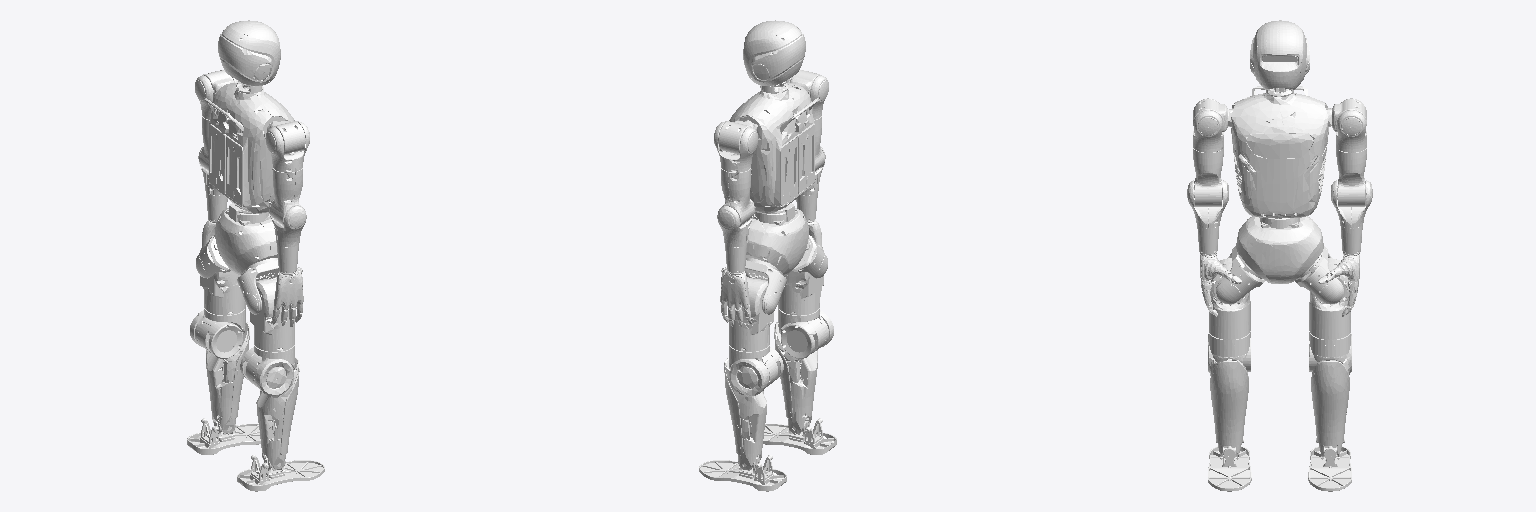
--- Render facts (derived) ---
Views: 3 orthographic renders of the robot side by side, from view 1: azimuth 30°, elevation 25°; view 2: azimuth 150°, elevation 25°; view 3: azimuth 270°, elevation 25°.
Model biped_s13 with 39 links and 38 joints (23 revolute, 14 fixed, 1 floating), rooted at base_link, posed all joints at 0.
Links seen in each view (by area): view 1: base_link, leg_r4_link, zhead_2_link, waist, zarm_r4_link, leg_l4_link, leg_r2_link, leg_l3_link, leg_r6_link, leg_l6_link, leg_l2_link, zarm_r3_link (+7 smaller); view 2: base_link, leg_l4_link, zhead_2_link, waist, zarm_l4_link, leg_r4_link, leg_l2_link, leg_r3_link, leg_l6_link, leg_r6_link, leg_r2_link, zarm_l3_link (+7 smaller); view 3: base_link, waist, zhead_2_link, leg_r4_link, leg_l4_link, zarm_l4_link, zarm_r4_link, leg_r2_link, leg_l2_link, leg_l6_link, leg_r6_link, zarm_l3_link (+7 smaller).
Boxes of the visible links, x1=… form: base_link: x1=204, y1=83, x2=294, y2=213; leg_r4_link: x1=256, y1=357, x2=299, y2=469; zhead_2_link: x1=218, y1=20, x2=280, y2=85; waist: x1=213, y1=203, x2=277, y2=275; zarm_r4_link: x1=269, y1=198, x2=306, y2=326; leg_l4_link: x1=190, y1=310, x2=249, y2=434; leg_r2_link: x1=250, y1=277, x2=294, y2=351; leg_l3_link: x1=195, y1=307, x2=245, y2=358; leg_r6_link: x1=237, y1=455, x2=324, y2=491; leg_l6_link: x1=187, y1=418, x2=260, y2=454; leg_l2_link: x1=200, y1=245, x2=245, y2=315; zarm_r3_link: x1=270, y1=168, x2=304, y2=225; base_link: x1=729, y1=82, x2=819, y2=213; leg_l4_link: x1=724, y1=358, x2=767, y2=469; zhead_2_link: x1=743, y1=20, x2=805, y2=85; waist: x1=746, y1=203, x2=808, y2=275; zarm_l4_link: x1=717, y1=199, x2=754, y2=326; leg_r4_link: x1=774, y1=310, x2=833, y2=434; leg_l2_link: x1=729, y1=277, x2=773, y2=351; leg_r3_link: x1=778, y1=307, x2=828, y2=358; leg_l6_link: x1=699, y1=455, x2=786, y2=491; leg_r6_link: x1=763, y1=418, x2=836, y2=454; leg_r2_link: x1=778, y1=245, x2=823, y2=315; zarm_l3_link: x1=719, y1=168, x2=753, y2=226; base_link: x1=1228, y1=86, x2=1331, y2=217; waist: x1=1236, y1=216, x2=1323, y2=283; zhead_2_link: x1=1250, y1=20, x2=1309, y2=89; leg_r4_link: x1=1208, y1=334, x2=1248, y2=457; leg_l4_link: x1=1311, y1=334, x2=1351, y2=457; zarm_l4_link: x1=1318, y1=180, x2=1372, y2=316; zarm_r4_link: x1=1187, y1=180, x2=1241, y2=316; leg_r2_link: x1=1209, y1=258, x2=1250, y2=339; leg_l2_link: x1=1309, y1=258, x2=1350, y2=339; leg_l6_link: x1=1308, y1=438, x2=1351, y2=491; leg_r6_link: x1=1208, y1=438, x2=1251, y2=491; zarm_l3_link: x1=1336, y1=148, x2=1366, y2=206.
Size in the robot's own frame: 0.215 by 0.4211 by 1.11 metres.
24 mesh visuals loaded from 24 distinct referenced files (24 binary STL).

URDF robot description (biped_s13):
<?xml version='1.0' encoding='utf-8'?>
<robot name="biped_s13">
  <mujoco>
    <compiler meshdir="../meshes/" balanceinertia="true" discardvisual="false" />
  </mujoco>
  <link name="dummy_link" />
  <link name="base_link">
    <inertial>
      <origin xyz="0.00227055 0.0 0.1163574" rpy="0 0 0" />
      <mass value="4.09458758" />
      <inertia ixx="0.06356019" ixy="0.0" ixz="0.0" iyy="0.05314952" iyz="0.0" izz="0.03434989" />
    </inertial>
    <visual>
      <origin xyz="0 0 0" rpy="0 0 0" />
      <geometry>
        <mesh filename="package://kuavo_assets/models/biped_s13/meshes/torso.STL" />
      </geometry>
      <material name="">
        <color rgba="1 1 1 1" />
      </material>
    </visual>
  </link>
  <joint name="base_link_to_dummy_link" type="floating">
    <origin xyz="0 0 0" rpy="0 0 0" />
    <parent link="base_link" />
    <child link="dummy_link" />
  </joint>
  <link name="waist">
    <inertial>
      <origin xyz="0.0016929 0.0 -0.11846153" rpy="0 0 0" />
      <mass value="5.17438719" />
      <inertia ixx="0.02255553" ixy="0.0" ixz="0.0" iyy="0.01532955" iyz="0.0" izz="0.01667096" />
    </inertial>
    <visual>
      <origin xyz="0 0 0" rpy="0 0 0" />
      <geometry>
        <mesh filename="package://kuavo_assets/models/biped_s13/meshes/waist.STL" />
      </geometry>
      <material name="">
        <color rgba="1 1 1 1" />
      </material>
    </visual>
  </link>
  <joint name="waist" type="revolute">
    <origin xyz="0 0 0" rpy="0 0 0" />
    <parent link="base_link" />
    <child link="waist" />
    <axis xyz="0 0 1" />
    <limit lower="-2.0943951023932" upper="2.0943951023932" effort="50" velocity="8.37333333333333" />
  </joint>
  <link name="leg_l1_link">
    <inertial>
      <origin xyz="-0.01281625 -0.02411867 0.0242652" rpy="0 0 0" />
      <mass value="0.41179806" />
      <inertia ixx="0.00053434" ixy="-1.716e-05" ixz="1.637e-05" iyy="0.00095375" iyz="6.321e-05" izz="0.00095062" />
    </inertial>
    <visual>
      <origin xyz="0 0 0" rpy="0 0 0" />
      <geometry>
        <mesh filename="package://kuavo_assets/models/biped_s13/meshes/l_leg_pitch.STL" />
      </geometry>
      <material name="">
        <color rgba="1 1 1 1" />
      </material>
    </visual>
  </link>
  <joint name="leg_l1_joint" type="revolute">
    <origin xyz="0.0 0.1143350698 -0.21673502307" rpy="0 0 0" />
    <parent link="waist" />
    <child link="leg_l1_link" />
    <axis xyz="0 0.70711 -0.70711" />
    <limit lower="-1.65806278939461" upper="1.5707963267949" effort="180" velocity="23.55" />
    <dynamics damping="0.2" friction="0.1" />
  </joint>
  <link name="leg_l2_link">
    <inertial>
      <origin xyz="-0.00113407 0.00022674 -0.055039" rpy="0 0 0" />
      <mass value="2.60733021" />
      <inertia ixx="0.00748166" ixy="0.0" ixz="0.0" iyy="0.00726718" iyz="0.0" izz="0.00283326" />
    </inertial>
    <visual>
      <origin xyz="0 0 0" rpy="0 0 0" />
      <geometry>
        <mesh filename="package://kuavo_assets/models/biped_s13/meshes/l_leg_roll.STL" />
      </geometry>
      <material name="">
        <color rgba="1 1 1 1" />
      </material>
    </visual>
  </link>
  <joint name="leg_l2_joint" type="revolute">
    <origin xyz="0 0 0" rpy="0 0 0" />
    <parent link="leg_l1_link" />
    <child link="leg_l2_link" />
    <axis xyz="1 0 0" />
    <limit lower="-1.0471975511966" upper="0.847008285992848" effort="100" velocity="41.3433333333333" />
    <dynamics damping="0.2" friction="0.1" />
  </joint>
  <link name="leg_l3_link">
    <inertial>
      <origin xyz="-0.01486413 -0.00438159 -0.17562576" rpy="0 0 0" />
      <mass value="1.03798929" />
      <inertia ixx="0.00130665" ixy="0.0" ixz="0.0" iyy="0.00143771" iyz="0.0" izz="0.00092289" />
    </inertial>
    <visual>
      <origin xyz="0 0 0" rpy="0 0 0" />
      <geometry>
        <mesh filename="package://kuavo_assets/models/biped_s13/meshes/l_leg_yaw.STL" />
      </geometry>
      <material name="">
        <color rgba="1 1 1 1" />
      </material>
    </visual>
  </link>
  <joint name="leg_l3_joint" type="revolute">
    <origin xyz="0 0 0" rpy="0 0 0" />
    <parent link="leg_l2_link" />
    <child link="leg_l3_link" />
    <axis xyz="0 0 1" />
    <limit lower="-1.91986217719376" upper="0.878424212528746" effort="100" velocity="41.3433333333333" />
    <dynamics damping="0.2" friction="0.1" />
  </joint>
  <link name="leg_l4_link">
    <inertial>
      <origin xyz="0.02276414 0.00634133 -0.09717249" rpy="0 0 0" />
      <mass value="1.78407172" />
      <inertia ixx="0.00775509" ixy="0.0" ixz="0.0" iyy="0.00820174" iyz="0.0" izz="0.00156093" />
    </inertial>
    <visual>
      <origin xyz="0 0 0" rpy="0 0 0" />
      <geometry>
        <mesh filename="package://kuavo_assets/models/biped_s13/meshes/l_knee.STL" />
      </geometry>
      <material name="">
        <color rgba="1 1 1 1" />
      </material>
    </visual>
  </link>
  <joint name="leg_l4_joint" type="revolute">
    <origin xyz="-0.021 0 -0.182" rpy="0 0 0" />
    <parent link="leg_l3_link" />
    <child link="leg_l4_link" />
    <axis xyz="0 1 0" />
    <limit lower="0.0" upper="2.61799387799149" effort="180" velocity="23.55" />
    <dynamics damping="0.2" friction="0.1" />
  </joint>
  <link name="leg_l5_link">
    <inertial>
      <origin xyz="0.0 0.0 0.0" rpy="0 0 0" />
      <mass value="0.06923766" />
      <inertia ixx="6.7e-05" ixy="0.0" ixz="0.0" iyy="6.7e-05" iyz="0.0" izz="1.172e-05" />
    </inertial>
    <visual>
      <origin xyz="0 0 0" rpy="0 0 0" />
      <geometry>
        <mesh filename="package://kuavo_assets/models/biped_s13/meshes/l_foot_pitch.STL" />
      </geometry>
      <material name="">
        <color rgba="1 1 1 1" />
      </material>
    </visual>
  </link>
  <joint name="leg_l5_joint" type="revolute">
    <origin xyz="0.021 0 -0.235" rpy="0 0 0" />
    <parent link="leg_l4_link" />
    <child link="leg_l5_link" />
    <axis xyz="0 1 0" />
    <limit lower="-0.872664625997165" upper="0.523598775598299" effort="36" velocity="23.0266666666667" />
    <dynamics damping="0.2" friction="0.1" />
  </joint>
  <link name="leg_l6_link">
    <inertial>
      <origin xyz="-0.00076721 2.797e-05 -0.02337788" rpy="0 0 0" />
      <mass value="0.38565431" />
      <inertia ixx="0.00026927" ixy="0.0" ixz="0.0" iyy="0.00114572" iyz="0.0" izz="0.00129886" />
    </inertial>
    <visual>
      <origin xyz="0 0 0" rpy="0 0 0" />
      <geometry>
        <mesh filename="package://kuavo_assets/models/biped_s13/meshes/l_foot_roll_big.STL" />
      </geometry>
      <material name="">
        <color rgba="1 1 1 1" />
      </material>
    </visual>
  </link>
  <joint name="leg_l6_joint" type="revolute">
    <origin xyz="0 0 0" rpy="0 0 0" />
    <parent link="leg_l5_link" />
    <child link="leg_l6_link" />
    <axis xyz="1 0 0" />
    <limit lower="-0.261799387799149" upper="0.261799387799149" effort="36" velocity="23.0266666666667" />
    <dynamics damping="0.2" friction="0.1" />
  </joint>
  <link name="ll_foot_toe">
    <collision>
      <origin rpy="0 0 0" xyz="0 0 0" />
      <geometry>
        <sphere radius="0.005" />
      </geometry>
    </collision>
  </link>
  <joint name="ll_foot_toe_joint" type="fixed">
    <origin xyz="0.126 0.05 -0.0435" rpy="0 0 0" />
    <parent link="leg_l6_link" />
    <child link="ll_foot_toe" />
  </joint>
  <link name="ll_foot_heel">
    <collision>
      <origin rpy="0 0 0" xyz="0 0 0" />
      <geometry>
        <sphere radius="0.005" />
      </geometry>
    </collision>
  </link>
  <joint name="ll_foot_heel_joint" type="fixed">
    <origin xyz="-0.089 0.05 -0.0435" rpy="0 0 0" />
    <parent link="leg_l6_link" />
    <child link="ll_foot_heel" />
  </joint>
  <link name="lr_foot_toe">
    <collision>
      <origin rpy="0 0 0" xyz="0 0 0" />
      <geometry>
        <sphere radius="0.005" />
      </geometry>
    </collision>
  </link>
  <joint name="lr_foot_toe_joint" type="fixed">
    <origin xyz="0.126 -0.05 -0.0435" rpy="0 0 0" />
    <parent link="leg_l6_link" />
    <child link="lr_foot_toe" />
  </joint>
  <link name="lr_foot_heel">
    <collision>
      <origin rpy="0 0 0" xyz="0 0 0" />
      <geometry>
        <sphere radius="0.005" />
      </geometry>
    </collision>
  </link>
  <joint name="lr_foot_heel_joint" type="fixed">
    <origin xyz="-0.089 -0.05 -0.0435" rpy="0 0 0" />
    <parent link="leg_l6_link" />
    <child link="lr_foot_heel" />
  </joint>
  <link name="l_foot_toe">
    <collision>
      <origin rpy="0 0 0" xyz="0 0 0" />
      <geometry>
        <sphere radius="0.005" />
      </geometry>
    </collision>
  </link>
  <joint name="l_foot_toe_joint" type="fixed">
    <origin xyz="0.126 0.0 -0.0435" rpy="0 0 0" />
    <parent link="leg_l6_link" />
    <child link="l_foot_toe" />
  </joint>
  <link name="l_foot_heel">
    <collision>
      <origin rpy="0 0 0" xyz="0 0 0" />
      <geometry>
        <sphere radius="0.005" />
      </geometry>
    </collision>
  </link>
  <joint name="l_foot_heel_joint" type="fixed">
    <origin xyz="-0.089 0.0 -0.0435" rpy="0 0 0" />
    <parent link="leg_l6_link" />
    <child link="l_foot_heel" />
  </joint>
  <link name="leg_r1_link">
    <inertial>
      <origin xyz="-0.01281237 0.02411826 0.02426469" rpy="0 0 0" />
      <mass value="0.4119068" />
      <inertia ixx="0.00053445" ixy="1.725e-05" ixz="1.639e-05" iyy="0.00095388" iyz="-6.324e-05" izz="0.00095076" />
    </inertial>
    <visual>
      <origin xyz="0 0 0" rpy="0 0 0" />
      <geometry>
        <mesh filename="package://kuavo_assets/models/biped_s13/meshes/r_leg_pitch.STL" />
      </geometry>
      <material name="">
        <color rgba="1 1 1 1" />
      </material>
    </visual>
  </link>
  <joint name="leg_r1_joint" type="revolute">
    <origin xyz="0.0 -0.1143350698 -0.21673502307" rpy="0 0 0" />
    <parent link="waist" />
    <child link="leg_r1_link" />
    <axis xyz="0 -0.70711 -0.70711" />
    <limit lower="-1.65806278939461" upper="1.5707963267949" effort="180" velocity="23.55" />
    <dynamics damping="0.2" friction="0.1" />
  </joint>
  <link name="leg_r2_link">
    <inertial>
      <origin xyz="-0.00091249 -5.402e-05 -0.0552687" rpy="0 0 0" />
      <mass value="2.60770806" />
      <inertia ixx="0.00748166" ixy="0.0" ixz="0.0" iyy="0.00726718" iyz="0.0" izz="0.00283326" />
    </inertial>
    <visual>
      <origin xyz="0 0 0" rpy="0 0 0" />
      <geometry>
        <mesh filename="package://kuavo_assets/models/biped_s13/meshes/r_leg_roll.STL" />
      </geometry>
      <material name="">
        <color rgba="1 1 1 1" />
      </material>
    </visual>
  </link>
  <joint name="leg_r2_joint" type="revolute">
    <origin xyz="0 0 0" rpy="0 0 0" />
    <parent link="leg_r1_link" />
    <child link="leg_r2_link" />
    <axis xyz="1 0 0" />
    <limit lower="-1.0471975511966" upper="0.847008285992848" effort="100" velocity="41.3433333333333" />
    <dynamics damping="0.2" friction="0.1" />
  </joint>
  <link name="leg_r3_link">
    <inertial>
      <origin xyz="-0.0150602 0.00499577 -0.17454657" rpy="0 0 0" />
      <mass value="1.03798252" />
      <inertia ixx="0.00130665" ixy="0.0" ixz="0.0" iyy="0.00143771" iyz="0.0" izz="0.00092289" />
    </inertial>
    <visual>
      <origin xyz="0 0 0" rpy="0 0 0" />
      <geometry>
        <mesh filename="package://kuavo_assets/models/biped_s13/meshes/r_leg_yaw.STL" />
      </geometry>
      <material name="">
        <color rgba="1 1 1 1" />
      </material>
    </visual>
  </link>
  <joint name="leg_r3_joint" type="revolute">
    <origin xyz="0 0 0" rpy="0 0 0" />
    <parent link="leg_r2_link" />
    <child link="leg_r3_link" />
    <axis xyz="0 0 1" />
    <limit lower="-1.91986217719376" upper="0.878424212528746" effort="100" velocity="41.3433333333333" />
    <dynamics damping="0.2" friction="0.1" />
  </joint>
  <link name="leg_r4_link">
    <inertial>
      <origin xyz="0.02271993 -0.0079271 -0.09808788" rpy="0 0 0" />
      <mass value="1.78444026" />
      <inertia ixx="0.00775509" ixy="0.0" ixz="0.0" iyy="0.00820174" iyz="0.0" izz="0.00156093" />
    </inertial>
    <visual>
      <origin xyz="0 0 0" rpy="0 0 0" />
      <geometry>
        <mesh filename="package://kuavo_assets/models/biped_s13/meshes/r_knee.STL" />
      </geometry>
      <material name="">
        <color rgba="1 1 1 1" />
      </material>
    </visual>
  </link>
  <joint name="leg_r4_joint" type="revolute">
    <origin xyz="-0.021 0 -0.182" rpy="0 0 0" />
    <parent link="leg_r3_link" />
    <child link="leg_r4_link" />
    <axis xyz="0 1 0" />
    <limit lower="0.0" upper="2.61799387799149" effort="180" velocity="23.55" />
    <dynamics damping="0.2" friction="0.1" />
  </joint>
  <link name="leg_r5_link">
    <inertial>
      <origin xyz="0.0 0.0 0.0" rpy="0 0 0" />
      <mass value="0.06923766" />
      <inertia ixx="6.7e-05" ixy="0.0" ixz="0.0" iyy="6.7e-05" iyz="0.0" izz="1.172e-05" />
    </inertial>
    <visual>
      <origin xyz="0 0 0" rpy="0 0 0" />
      <geometry>
        <mesh filename="package://kuavo_assets/models/biped_s13/meshes/r_foot_pitch.STL" />
      </geometry>
      <material name="">
        <color rgba="1 1 1 1" />
      </material>
    </visual>
  </link>
  <joint name="leg_r5_joint" type="revolute">
    <origin xyz="0.021 0 -0.235" rpy="0 0 0" />
    <parent link="leg_r4_link" />
    <child link="leg_r5_link" />
    <axis xyz="0 1 0" />
    <limit lower="-0.872664625997165" upper="0.523598775598299" effort="36" velocity="23.0266666666667" />
    <dynamics damping="0.2" friction="0.1" />
  </joint>
  <link name="leg_r6_link">
    <inertial>
      <origin xyz="-0.00075494 -2.665e-05 -0.02339266" rpy="0 0 0" />
      <mass value="0.38537958" />
      <inertia ixx="0.00026927" ixy="0.0" ixz="0.0" iyy="0.00114572" iyz="0.0" izz="0.00129886" />
    </inertial>
    <visual>
      <origin xyz="0 0 0" rpy="0 0 0" />
      <geometry>
        <mesh filename="package://kuavo_assets/models/biped_s13/meshes/r_foot_roll_big.STL" />
      </geometry>
      <material name="">
        <color rgba="1 1 1 1" />
      </material>
    </visual>
  </link>
  <joint name="leg_r6_joint" type="revolute">
    <origin xyz="0 0 0" rpy="0 0 0" />
    <parent link="leg_r5_link" />
    <child link="leg_r6_link" />
    <axis xyz="1 0 0" />
    <limit lower="-0.261799387799149" upper="0.261799387799149" effort="36" velocity="23.0266666666667" />
    <dynamics damping="0.2" friction="0.1" />
  </joint>
  <link name="rl_foot_toe">
    <collision>
      <origin rpy="0 0 0" xyz="0 0 0" />
      <geometry>
        <sphere radius="0.005" />
      </geometry>
    </collision>
  </link>
  <joint name="rl_foot_toe_joint" type="fixed">
    <origin xyz="0.126 0.05 -0.0435" rpy="0 0 0" />
    <parent link="leg_r6_link" />
    <child link="rl_foot_toe" />
  </joint>
  <link name="rl_foot_heel">
    <collision>
      <origin rpy="0 0 0" xyz="0 0 0" />
      <geometry>
        <sphere radius="0.005" />
      </geometry>
    </collision>
  </link>
  <joint name="rl_foot_heel_joint" type="fixed">
    <origin xyz="-0.089 0.05 -0.0435" rpy="0 0 0" />
    <parent link="leg_r6_link" />
    <child link="rl_foot_heel" />
  </joint>
  <link name="rr_foot_toe">
    <collision>
      <origin rpy="0 0 0" xyz="0 0 0" />
      <geometry>
        <sphere radius="0.005" />
      </geometry>
    </collision>
  </link>
  <joint name="rr_foot_toe_joint" type="fixed">
    <origin xyz="0.126 -0.05 -0.0435" rpy="0 0 0" />
    <parent link="leg_r6_link" />
    <child link="rr_foot_toe" />
  </joint>
  <link name="rr_foot_heel">
    <collision>
      <origin rpy="0 0 0" xyz="0 0 0" />
      <geometry>
        <sphere radius="0.005" />
      </geometry>
    </collision>
  </link>
  <joint name="rr_foot_heel_joint" type="fixed">
    <origin xyz="-0.089 -0.05 -0.0435" rpy="0 0 0" />
    <parent link="leg_r6_link" />
    <child link="rr_foot_heel" />
  </joint>
  <link name="r_foot_toe">
    <collision>
      <origin rpy="0 0 0" xyz="0 0 0" />
      <geometry>
        <sphere radius="0.005" />
      </geometry>
    </collision>
  </link>
  <joint name="r_foot_toe_joint" type="fixed">
    <origin xyz="0.126 0.0 -0.0435" rpy="0 0 0" />
    <parent link="leg_r6_link" />
    <child link="r_foot_toe" />
  </joint>
  <link name="r_foot_heel">
    <collision>
      <origin rpy="0 0 0" xyz="0 0 0" />
      <geometry>
        <sphere radius="0.005" />
      </geometry>
    </collision>
  </link>
  <joint name="r_foot_heel_joint" type="fixed">
    <origin xyz="-0.089 0.0 -0.0435" rpy="0 0 0" />
    <parent link="leg_r6_link" />
    <child link="r_foot_heel" />
  </joint>
  <link name="zarm_l1_link">
    <inertial>
      <origin xyz="0.00335591 -0.00249177 1.895e-05" rpy="0 0 0" />
      <mass value="0.44491793" />
      <inertia ixx="0.00028057" ixy="3.5e-05" ixz="2.3e-05" iyy="0.00024754" iyz="7e-05" izz="0.0002873" />
    </inertial>
    <visual>
      <origin xyz="0 0 0" rpy="0 0 0" />
      <geometry>
        <mesh filename="package://kuavo_assets/models/biped_s13/meshes/l_arm_pitch.STL" />
      </geometry>
      <material name="">
        <color rgba="1 1 1 1" />
      </material>
    </visual>
  </link>
  <joint name="zarm_l1_joint" type="revolute">
    <origin xyz="0.0073474151 0.16250437899999998 0.20242688398" rpy="0 0 0" />
    <parent link="base_link" />
    <child link="zarm_l1_link" />
    <axis xyz="0 1 0" />
    <limit lower="-3.14159265358979" upper="2.0943951023932" effort="12" velocity="7.32666666666667" />
    <dynamics damping="0.2" friction="0.1" />
  </joint>
  <link name="zarm_l2_link">
    <inertial>
      <origin xyz="0.00025941 0.0 -0.03684584" rpy="0 0 0" />
      <mass value="0.2598439" />
      <inertia ixx="0.0003221" ixy="0.0" ixz="-6.2e-05" iyy="0.00043526" iyz="0.0" izz="0.00030902" />
    </inertial>
    <visual>
      <origin xyz="0 0 0" rpy="0 0 0" />
      <geometry>
        <mesh filename="package://kuavo_assets/models/biped_s13/meshes/l_arm_roll.STL" />
      </geometry>
      <material name="">
        <color rgba="1 1 1 1" />
      </material>
    </visual>
  </link>
  <joint name="zarm_l2_joint" type="revolute">
    <origin xyz="0 0 0" rpy="0 0 0" />
    <parent link="zarm_l1_link" />
    <child link="zarm_l2_link" />
    <axis xyz="1 0 0" />
    <limit lower="-0.349065850398866" upper="3.49065850398866" effort="12" velocity="7.32666666666667" />
    <dynamics damping="0.2" friction="0.1" />
  </joint>
  <link name="zarm_l3_link">
    <inertial>
      <origin xyz="-0.0001383 -0.00323921 -0.14314847" rpy="0 0 0" />
      <mass value="0.77406554" />
      <inertia ixx="0.00201794" ixy="-2.6e-05" ixz="-3e-05" iyy="0.00198657" iyz="-0.00011116" izz="0.00042873" />
    </inertial>
    <visual>
      <origin xyz="0 0 0" rpy="0 0 0" />
      <geometry>
        <mesh filename="package://kuavo_assets/models/biped_s13/meshes/l_arm_yaw.STL" />
      </geometry>
      <material name="">
        <color rgba="1 1 1 1" />
      </material>
    </visual>
  </link>
  <joint name="zarm_l3_joint" type="revolute">
    <origin xyz="0 0 0" rpy="0 0 0" />
    <parent link="zarm_l2_link" />
    <child link="zarm_l3_link" />
    <axis xyz="0 0 1" />
    <limit lower="-1.5707963267949" upper="1.5707963267949" effort="12" velocity="7.32666666666667" />
    <dynamics damping="0.2" friction="0.1" />
  </joint>
  <link name="zarm_l4_link">
    <inertial>
      <origin xyz="0.00776368 -0.00672119 -0.18040057" rpy="0 0 0" />
      <mass value="0.48320221" />
      <inertia ixx="0.00308555" ixy="0" ixz="0" iyy="0.00338093" iyz="0" izz="0.00054057" />
    </inertial>
    <visual>
      <origin xyz="0 0 0" rpy="0 0 0" />
      <geometry>
        <mesh filename="package://kuavo_assets/models/biped_s13/meshes/l_forearm_hand.STL" />
      </geometry>
      <material name="">
        <color rgba="1 1 1 1" />
      </material>
    </visual>
  </link>
  <joint name="zarm_l4_joint" type="revolute">
    <origin xyz="0 0 -0.188" rpy="0 0 0" />
    <parent link="zarm_l3_link" />
    <child link="zarm_l4_link" />
    <axis xyz="0 1 0" />
    <limit lower="-2.26892802759263" upper="0.0" effort="12" velocity="7.32666666666667" />
    <dynamics damping="0.2" friction="0.1" />
  </joint>
  <link name="zarm_l7_end_effector">
    <collision>
      <origin rpy="0 0 0" xyz="0 0 0" />
      <geometry>
        <sphere radius="0.005" />
      </geometry>
    </collision>
  </link>
  <joint name="zarm_l7_end_effector_joint" type="fixed">
    <origin xyz="0 -0.00 -0.17" rpy="0 0 0" />
    <parent link="zarm_l4_link" />
    <child link="zarm_l7_end_effector" />
  </joint>
  <link name="zarm_r1_link">
    <inertial>
      <origin xyz="0.00335581 0.00249177 1.809e-05" rpy="0 0 0" />
      <mass value="0.44491659" />
      <inertia ixx="0.00028057" ixy="-3.5e-05" ixz="2.4e-05" iyy="0.00024753" iyz="-6e-05" izz="0.00028729" />
    </inertial>
    <visual>
      <origin xyz="0 0 0" rpy="0 0 0" />
      <geometry>
        <mesh filename="package://kuavo_assets/models/biped_s13/meshes/r_arm_pitch.STL" />
      </geometry>
      <material name="">
        <color rgba="1 1 1 1" />
      </material>
    </visual>
  </link>
  <joint name="zarm_r1_joint" type="revolute">
    <origin xyz="0.0073474151 -0.16250437899999998 0.20242688398" rpy="0 0 0" />
    <parent link="base_link" />
    <child link="zarm_r1_link" />
    <axis xyz="0 1 0" />
    <limit lower="-3.14159265358979" upper="2.0943951023932" effort="12" velocity="7.32666666666667" />
    <dynamics damping="0.2" friction="0.1" />
  </joint>
  <link name="zarm_r2_link">
    <inertial>
      <origin xyz="0.0002594 0.0 -0.03684556" rpy="0 0 0" />
      <mass value="0.25983512" />
      <inertia ixx="0.00032209" ixy="0.0" ixz="-6.2e-05" iyy="0.00043526" iyz="0.0" izz="0.00030901" />
    </inertial>
    <visual>
      <origin xyz="0 0 0" rpy="0 0 0" />
      <geometry>
        <mesh filename="package://kuavo_assets/models/biped_s13/meshes/r_arm_roll.STL" />
      </geometry>
      <material name="">
        <color rgba="1 1 1 1" />
      </material>
    </visual>
  </link>
  <joint name="zarm_r2_joint" type="revolute">
    <origin xyz="0 0 0" rpy="0 0 0" />
    <parent link="zarm_r1_link" />
    <child link="zarm_r2_link" />
    <axis xyz="1 0 0" />
    <limit lower="-3.49065850398866" upper="0.349065850398866" effort="12" velocity="7.32666666666667" />
    <dynamics damping="0.2" friction="0.1" />
  </joint>
  <link name="zarm_r3_link">
    <inertial>
      <origin xyz="-0.00013784 0.00323927 -0.14314868" rpy="0 0 0" />
      <mass value="0.774042" />
      <inertia ixx="0.00201792" ixy="2.6e-05" ixz="-3e-05" iyy="0.00198653" iyz="0.00011115" izz="0.00042871" />
    </inertial>
    <visual>
      <origin xyz="0 0 0" rpy="0 0 0" />
      <geometry>
        <mesh filename="package://kuavo_assets/models/biped_s13/meshes/r_arm_yaw.STL" />
      </geometry>
      <material name="">
        <color rgba="1 1 1 1" />
      </material>
    </visual>
  </link>
  <joint name="zarm_r3_joint" type="revolute">
    <origin xyz="0 0 0" rpy="0 0 0" />
    <parent link="zarm_r2_link" />
    <child link="zarm_r3_link" />
    <axis xyz="0 0 1" />
    <limit lower="-1.5707963267949" upper="1.5707963267949" effort="12" velocity="7.32666666666667" />
    <dynamics damping="0.2" friction="0.1" />
  </joint>
  <link name="zarm_r4_link">
    <inertial>
      <origin xyz="0.00776368 0.00672119 -0.18040057" rpy="0 0 0" />
      <mass value="0.48320221" />
       <inertia ixx="0.00308555" ixy="0" ixz="0" iyy="0.00338093" iyz="0" izz="0.00054057" />
    </inertial>
    <visual>
      <origin xyz="0 0 0" rpy="0 0 0" />
      <geometry>
        <mesh filename="package://kuavo_assets/models/biped_s13/meshes/r_forearm_hand.STL" />
      </geometry>
      <material name="">
        <color rgba="1 1 1 1" />
      </material>
    </visual>
  </link>
  <joint name="zarm_r4_joint" type="revolute">
    <origin xyz="0 0 -0.188" rpy="0 0 0" />
    <parent link="zarm_r3_link" />
    <child link="zarm_r4_link" />
    <axis xyz="0 1 0" />
    <limit lower="-2.26892802759263" upper="0.0" effort="12" velocity="7.32666666666667" />
    <dynamics damping="0.2" friction="0.1" />
  </joint>
  <link name="zarm_r7_end_effector">
    <collision>
      <origin rpy="0 0 0" xyz="0 0 0" />
      <geometry>
        <sphere radius="0.005" />
      </geometry>
    </collision>
  </link>
  <joint name="zarm_r7_end_effector_joint" type="fixed">
    <origin xyz="0 0.00 -0.17" rpy="0 0 0" />
    <parent link="zarm_r4_link" />
    <child link="zarm_r7_end_effector" />
  </joint>
  <link name="zhead_1_link">
    <inertial>
      <origin xyz="-2.17e-06 0 0" rpy="0 0 0" />
      <mass value="0.8600171" />
      <inertia ixx="0.00182827" ixy="0" ixz="0" iyy="0.00158462" iyz="0" izz="0.00060882" />
    </inertial>
    <visual>
      <origin xyz="0 0 0" rpy="0 0 0" />
      <geometry>
        <mesh filename="package://kuavo_assets/models/biped_s13/meshes/head_yaw.STL" />
      </geometry>
      <material name="">
        <color rgba="1 1 1 1" />
      </material>
    </visual>
  </link>
  <joint name="zhead_1_joint" type="revolute">
    <origin xyz="0.0 0.0 0.33128227967" rpy="0 0 0" />
    <parent link="base_link" />
    <child link="zhead_1_link" />
    <axis xyz="0 0 1" />
    <limit lower="-1.5707963267949" upper="1.5707963267949" effort="50" velocity="8.37333333333333" />
    <dynamics damping="0.2" friction="0.1" />
  </joint>
  <link name="zhead_2_link">
    <inertial>
      <origin xyz="0.01483981 -0.0004003 0.03127021" rpy="0 0 0" />
      <mass value="0.35420007" />
      <inertia ixx="0.00092946" ixy="0" ixz="0" iyy="0.00095408" iyz="0" izz="0.00114126" />
    </inertial>
    <visual>
      <origin xyz="0 0 0" rpy="0 0 0" />
      <geometry>
        <mesh filename="package://kuavo_assets/models/biped_s13/meshes/head_pitch.STL" />
      </geometry>
      <material name="">
        <color rgba="1 1 1 1" />
      </material>
    </visual>
  </link>
  <joint name="zhead_2_joint" type="revolute">
    <origin xyz="0 0 0" rpy="0 0 0" />
    <parent link="zhead_1_link" />
    <child link="zhead_2_link" />
    <axis xyz="0 1 0" />
    <limit lower="-0.349065850398866" upper="0.523598775598299" effort="50" velocity="8.37333333333333" />
    <dynamics damping="0.2" friction="0.1" />
  </joint>
</robot>
